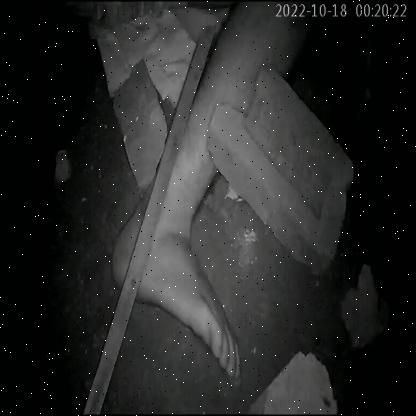leg: (99, 0, 284, 388)
